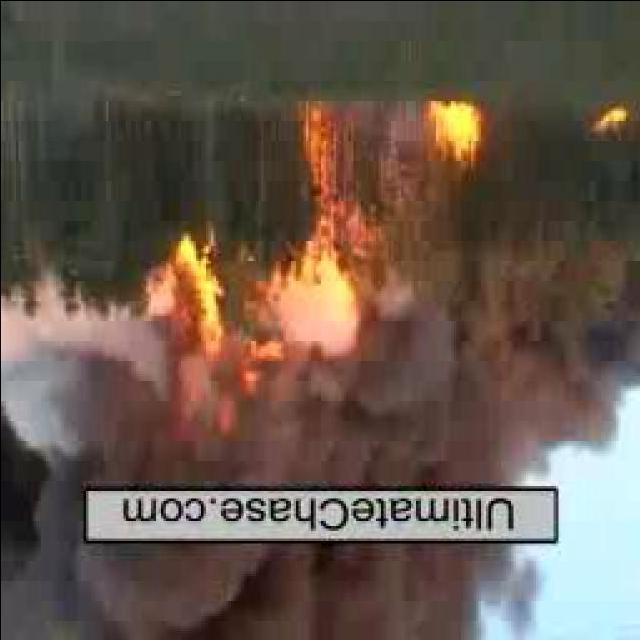Fire: (143, 236, 244, 400), (284, 100, 359, 246), (424, 96, 476, 160), (590, 98, 628, 138)
